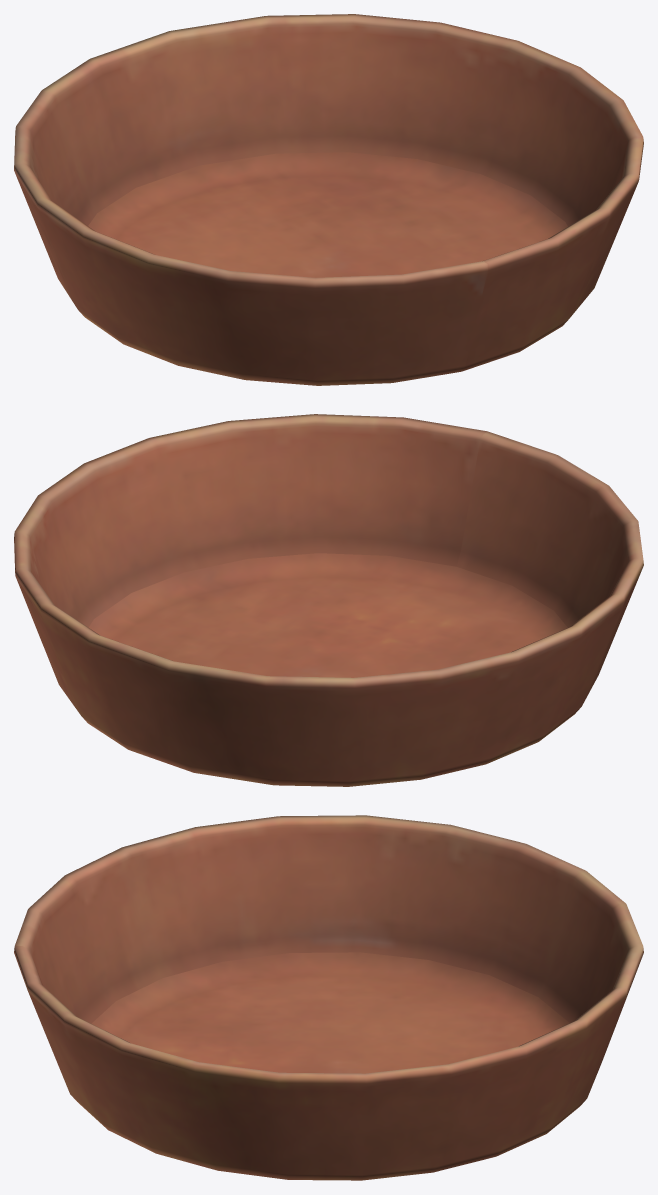
Rendered from SM_Tableware_Bowl_02.fbx.
The picture shows the model from 3 angles, top to bottom: view 1: azimuth 30°, elevation 25°; view 2: azimuth 150°, elevation 25°; view 3: azimuth 270°, elevation 25°; orthographic projection.
Parts seen in each view (by area): view 1: SM_Tableware_Bowl_02_LOD0; view 2: SM_Tableware_Bowl_02_LOD0; view 3: SM_Tableware_Bowl_02_LOD0.
Boxes of the visible parts, <box> form: SM_Tableware_Bowl_02_LOD0: <box>14,14,643,385</box>; SM_Tableware_Bowl_02_LOD0: <box>14,414,643,786</box>; SM_Tableware_Bowl_02_LOD0: <box>14,815,643,1180</box>.
Bounding box in the file's own units: 20.49 × 20.81 × 4.68.
1 material, 1 textured.
